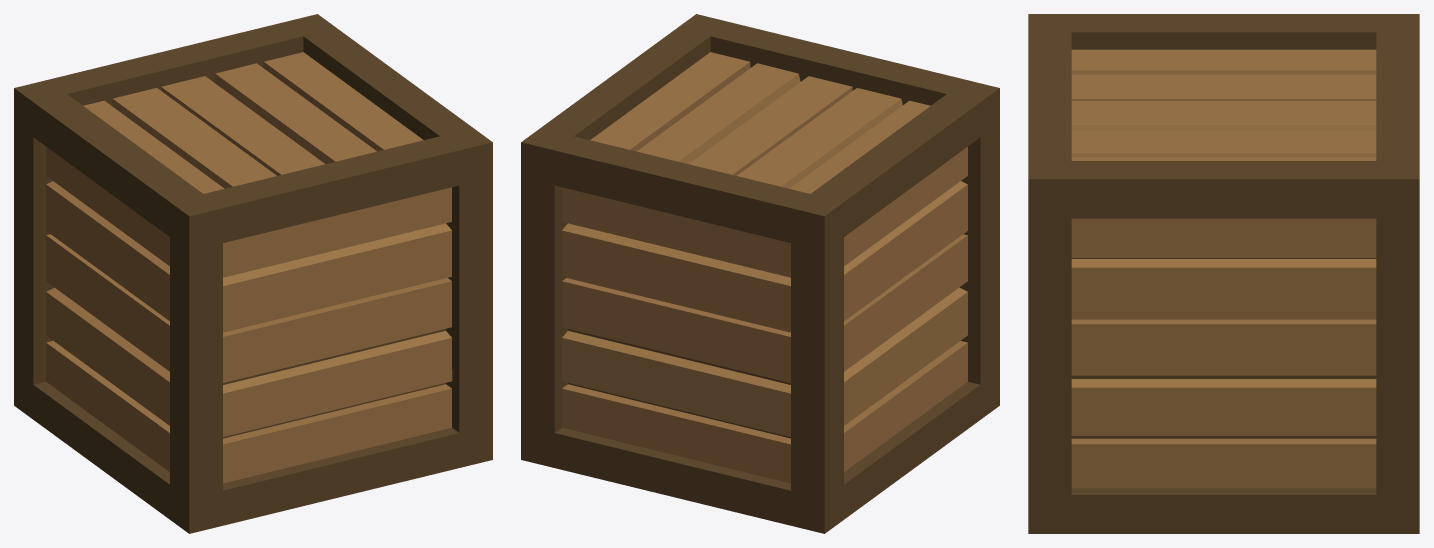
File: WoodenCrate.fbx
3 views of the same model, side by side, from view 1: azimuth 30°, elevation 25°; view 2: azimuth 150°, elevation 25°; view 3: azimuth 270°, elevation 25° (orthographic). The views are drawn at different scales.
Parts seen in each view (by area): view 1: Cube.006, Cube.007, Cube.008, Cube.020, Cube.015, Cube.019, Cube.014, Cube.011, Cube.017, Cube.021, Cube.013, Cube.002; view 2: Cube.004, Cube.007, Cube.008, Cube.021, Cube.017, Cube.018, Cube.016, Cube.011, Cube.015, Cube.020, Cube.013, Cube.002; view 3: Cube.005, Cube.008, Cube.013, Cube.012, Cube.018, Cube.019, Cube.011, Cube.015, Cube.017.
Boxes of the visible parts, left/top/right/bottom form: Cube.006: left=223, top=187, right=452, bottom=483; Cube.007: left=46, top=147, right=169, bottom=471; Cube.008: left=83, top=52, right=423, bottom=193; Cube.020: left=170, top=216, right=222, bottom=533; Cube.015: left=189, top=136, right=492, bottom=242; Cube.019: left=446, top=142, right=492, bottom=459; Cube.014: left=189, top=427, right=492, bottom=533; Cube.011: left=14, top=88, right=203, bottom=236; Cube.017: left=15, top=14, right=317, bottom=105; Cube.021: left=14, top=88, right=54, bottom=405; Cube.013: left=303, top=14, right=492, bottom=142; Cube.002: left=14, top=382, right=188, bottom=533; Cube.004: left=561, top=187, right=790, bottom=483; Cube.007: left=844, top=147, right=967, bottom=471; Cube.008: left=590, top=52, right=930, bottom=193; Cube.021: left=791, top=216, right=843, bottom=533; Cube.017: left=521, top=136, right=824, bottom=242; Cube.018: left=521, top=142, right=567, bottom=459; Cube.016: left=521, top=427, right=824, bottom=533; Cube.011: left=810, top=88, right=999, bottom=236; Cube.015: left=696, top=14, right=998, bottom=105; Cube.020: left=959, top=88, right=999, bottom=405; Cube.013: left=521, top=14, right=710, bottom=142; Cube.002: left=825, top=382, right=999, bottom=533; Cube.005: left=1071, top=218, right=1376, bottom=487; Cube.008: left=1071, top=49, right=1376, bottom=160; Cube.013: left=1028, top=161, right=1419, bottom=218; Cube.012: left=1029, top=488, right=1418, bottom=533; Cube.018: left=1376, top=179, right=1419, bottom=533; Cube.019: left=1028, top=179, right=1071, bottom=533; Cube.011: left=1029, top=14, right=1418, bottom=49; Cube.015: left=1028, top=14, right=1071, bottom=178; Cube.017: left=1376, top=14, right=1419, bottom=178.
Size of the model in its own units: 200 by 200 by 200.
